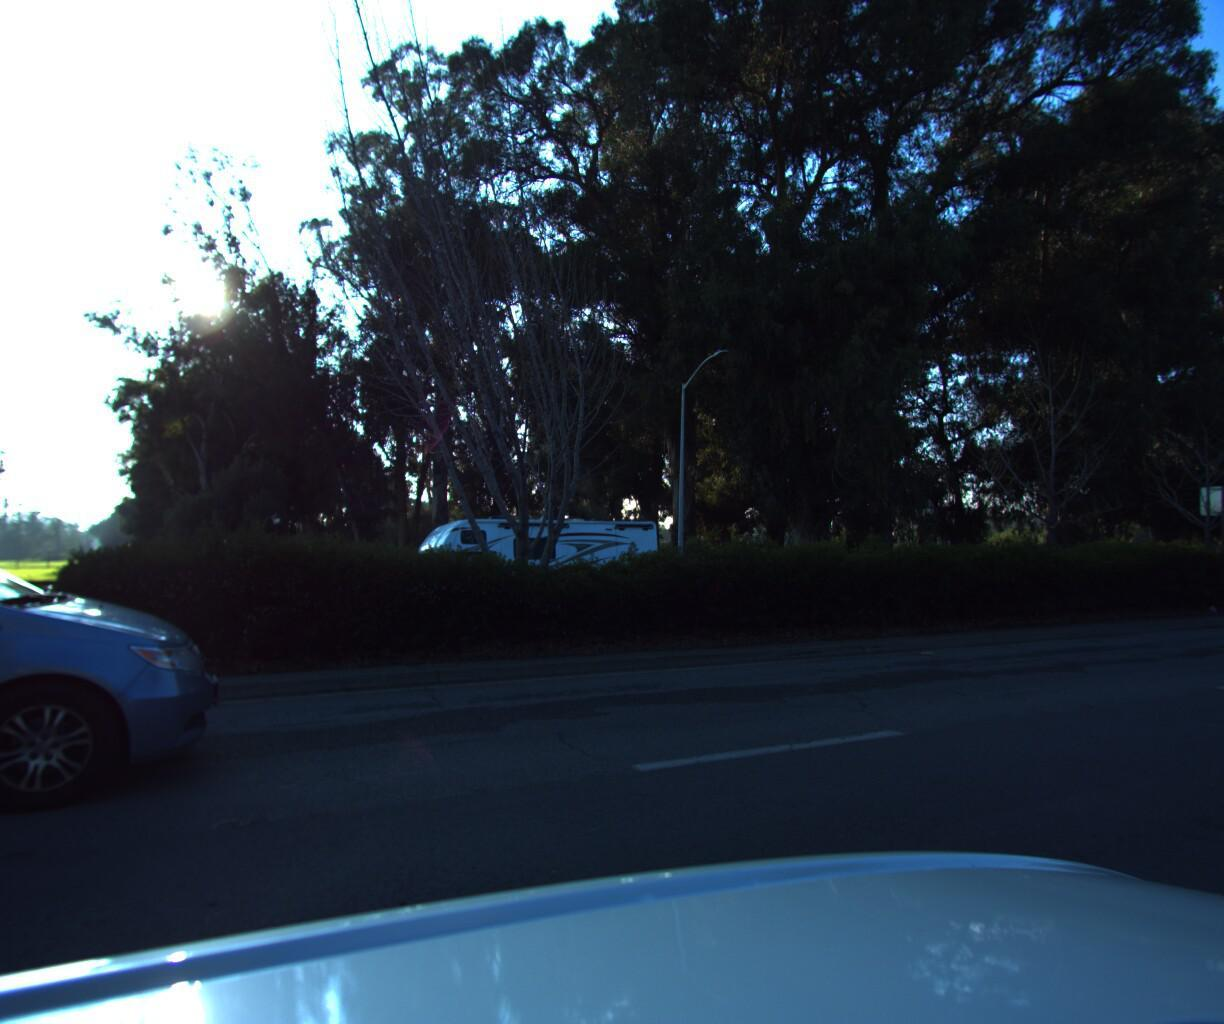car: (0, 472, 251, 995)
other_vehicle: (391, 503, 666, 624)
